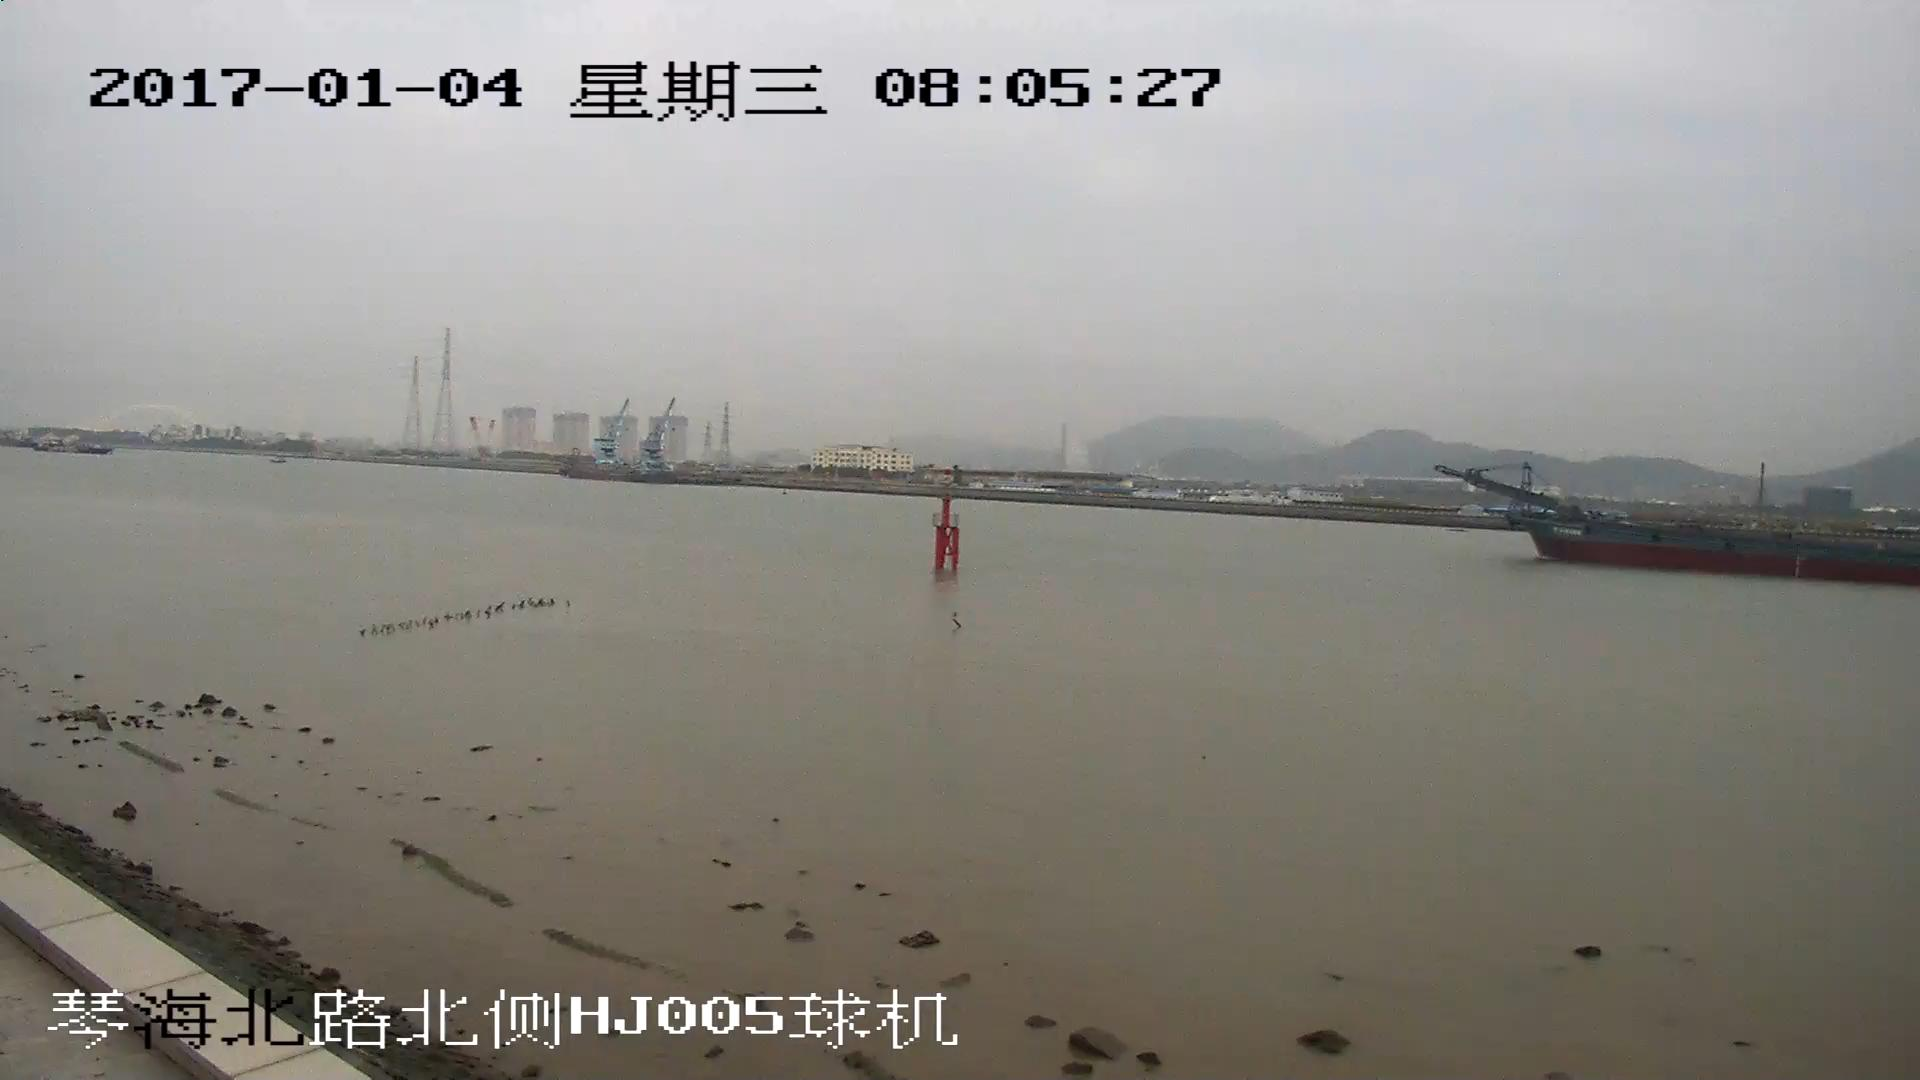bulk cargo carrier: (1439, 465, 1920, 590)
